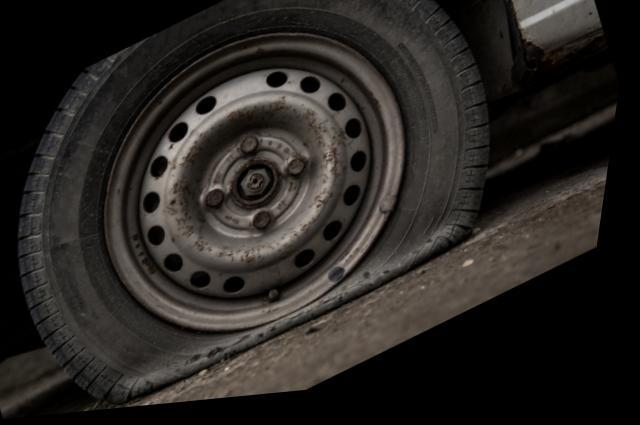tire flat: (27, 0, 493, 407)
